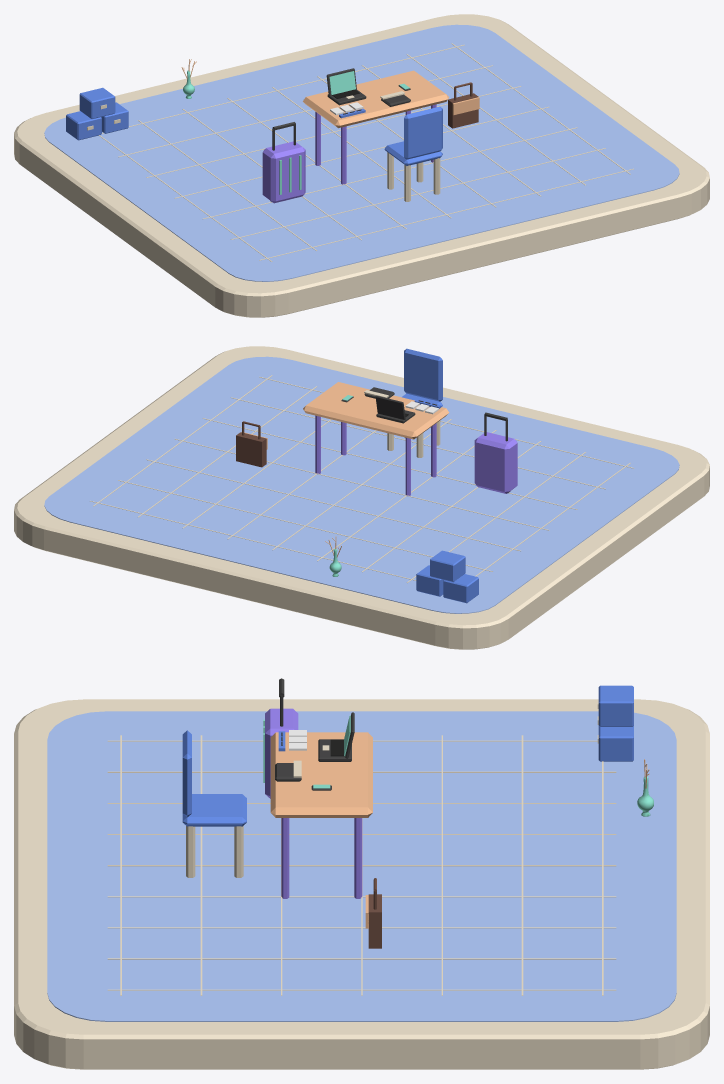
File: room.fbx
3 renders of one model, top to bottom at view 1: azimuth 30°, elevation 25°; view 2: azimuth 150°, elevation 25°; view 3: azimuth 270°, elevation 25°, orthographic. The views are drawn at different scales.
Parts seen in each view (by area): view 1: COM-02 Floor Surface, COM-01 Rounded Base Direct, Rounded table top, Shell, Backrest, Bag, Stacked case.002, Stacked case, Stacked case.001, Grout Y, Seat, Grout Y.001 (+1 smaller); view 2: COM-02 Floor Surface, COM-01 Rounded Base Direct, Rounded table top, Shell, Backrest, Bag, Stacked case.002, Stacked case, Stacked case.001, Grout Y.004, Hinged display, Grout Y.003 (+1 smaller); view 3: COM-02 Floor Surface, COM-01 Rounded Base Direct, Rounded table top, Seat, Stacked case.002, Stacked case.001, Shell, Grout X.007, Grout X.008, Grout X.006, Grout X.005, Grout X.004 (+8 smaller).
Part boxes in pixels (x1,y1,x2,y2): COM-02 Floor Surface: [44, 24, 679, 281]; COM-01 Rounded Base Direct: [14, 14, 709, 317]; Rounded table top: [303, 70, 449, 128]; Shell: [262, 141, 305, 203]; Backrest: [404, 106, 442, 159]; Bag: [448, 82, 479, 128]; Stacked case.002: [79, 87, 115, 118]; Stacked case: [66, 111, 101, 140]; Stacked case.001: [101, 102, 128, 133]; Grout Y: [259, 168, 633, 260]; Seat: [384, 141, 442, 165]; Grout Y.001: [231, 148, 605, 239]; COM-02 Floor Surface: [44, 356, 679, 613]; COM-01 Rounded Base Direct: [14, 346, 709, 649]; Rounded table top: [303, 382, 449, 439]; Shell: [474, 432, 517, 493]; Backrest: [404, 348, 442, 401]; Bag: [236, 421, 267, 467]; Stacked case.002: [430, 550, 465, 581]; Stacked case: [443, 574, 478, 603]; Stacked case.001: [416, 565, 443, 596]; Grout Y.004: [146, 459, 520, 551]; Hinged display: [375, 395, 405, 420]; Grout Y.003: [174, 438, 549, 530]; COM-02 Floor Surface: [47, 711, 676, 1021]; COM-01 Rounded Base Direct: [14, 699, 709, 1069]; Rounded table top: [270, 732, 372, 817]; Seat: [182, 794, 246, 826]; Stacked case.002: [598, 685, 633, 726]; Stacked case.001: [598, 726, 633, 761]; Shell: [265, 708, 298, 798]; Grout X.007: [107, 958, 616, 959]; Grout X.008: [107, 989, 616, 990]; Grout X.006: [107, 927, 616, 928]; Grout X.005: [107, 896, 616, 897]; Grout X.004: [107, 865, 616, 866].
Bounding box in the file's own units: 600 × 135 × 520.
